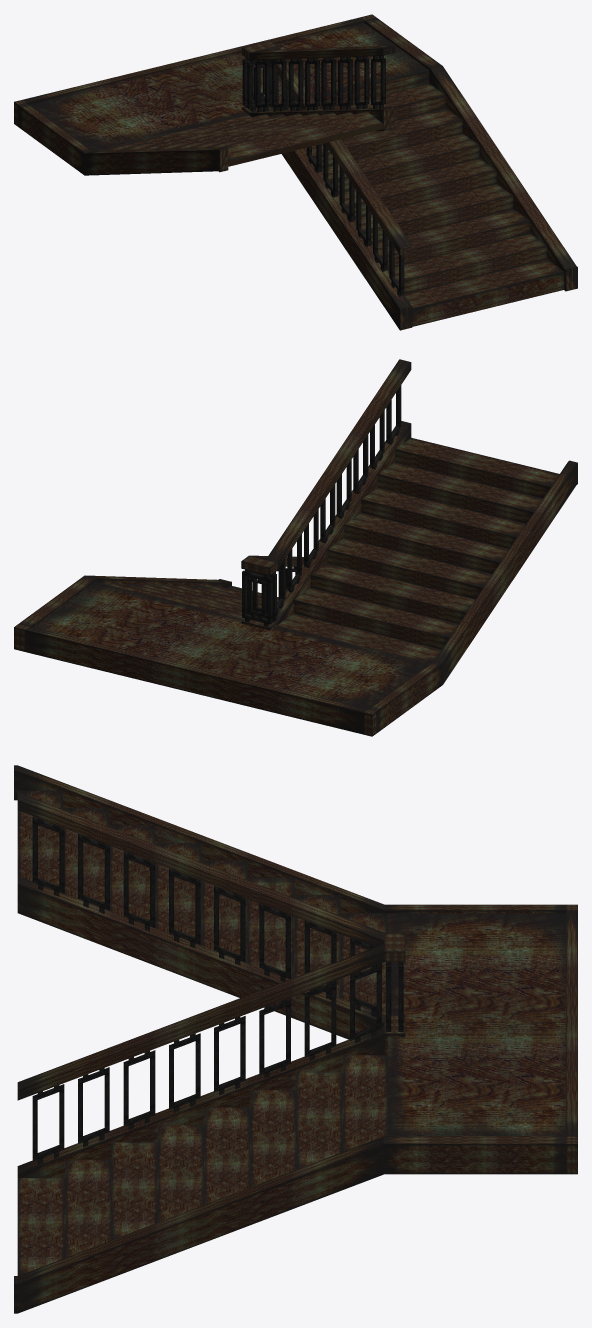
The model's file is Stairway 2.fbx.
3 renders of one model, top to bottom at view 1: azimuth 30°, elevation 25°; view 2: azimuth 150°, elevation 25°; view 3: azimuth 270°, elevation 25°, orthographic. The views are drawn at different scales.
Parts seen in each view (by area): view 1: Stairs; view 2: Stairs; view 3: Stairs.
Part boxes in pixels (<box>): Stairs: <box>14,14,577,330</box>; Stairs: <box>14,359,577,736</box>; Stairs: <box>14,765,577,1313</box>.
Size of the model in its own units: 10.03 by 9.97 by 7.65.
